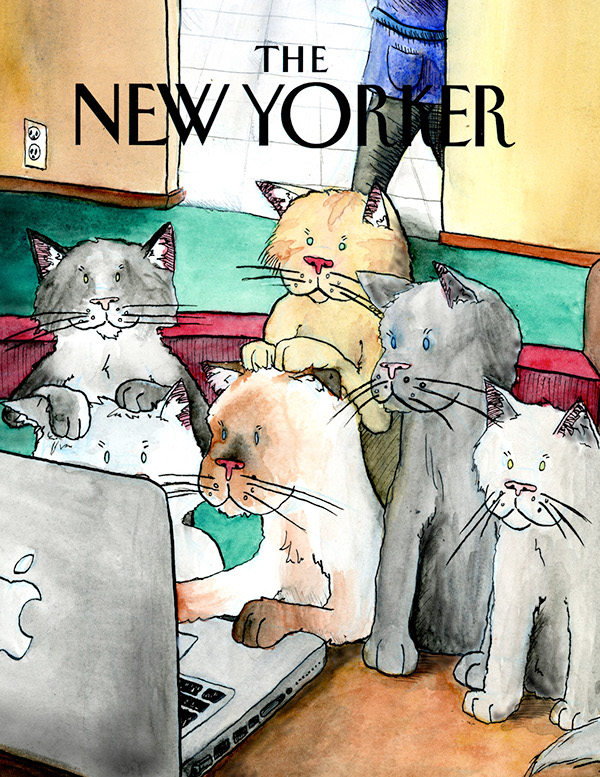cat: (355, 257, 519, 689), (181, 360, 387, 657), (225, 157, 438, 419), (464, 368, 600, 764), (10, 230, 212, 482)
